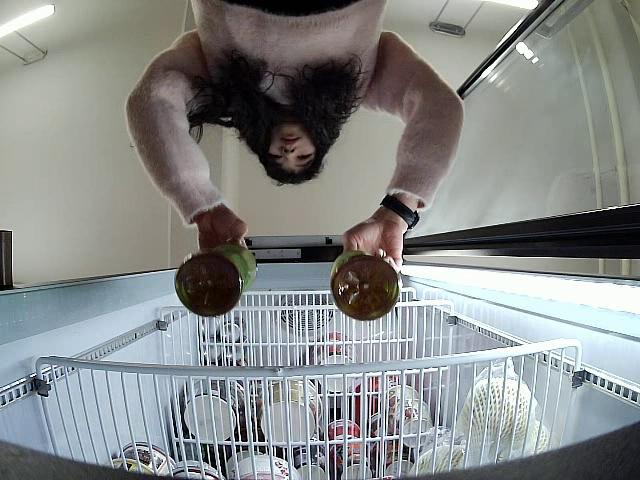00_hand: (343, 219, 404, 275), (197, 210, 249, 257)
19_17cha: (175, 243, 257, 318), (331, 251, 399, 321)
